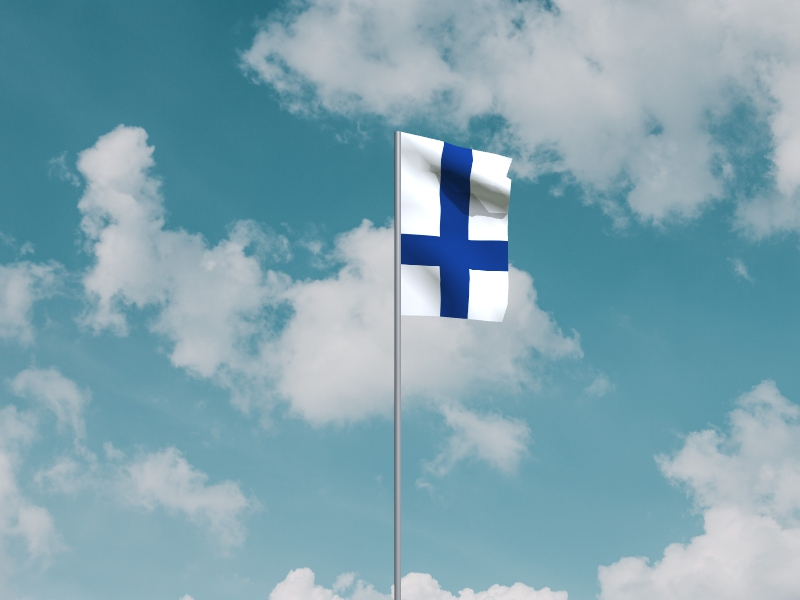fi: (401, 133, 514, 324)
